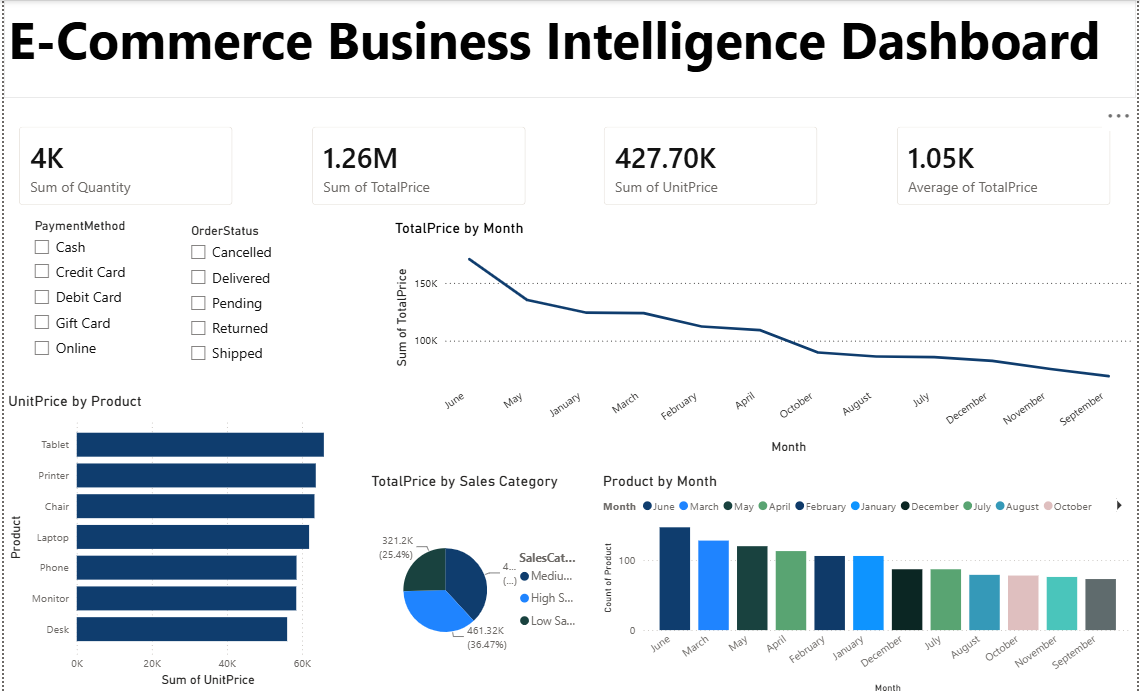

The dashboard page shown, as its layout file describes it:
{"tool":"powerbi","page":{"name":"Page 1","canvas":[1300,800],"ordinal":0},"visuals":[{"type":"cardVisual","fields":{"Data":["Sum(project1 dataset.Quantity)"]},"box":[0,127.8,279,124.4],"z":0},{"type":"cardVisual","fields":{"Data":["Sum(project1 dataset.TotalPrice)"]},"box":[335.6,127.8,279,124.4],"z":1000},{"type":"cardVisual","fields":{"Data":["Sum(project1 dataset. UnitPrice )"]},"box":[671.3,127.8,279,124.4],"z":2000},{"type":"cardVisual","fields":{"Data":["Avg(project1 dataset.TotalPrice)"]},"box":[1006.9,127.8,279,124],"z":3000},{"type":"lineStackedColumnComboChart","title":"Product by Month ","fields":{"Category":["project1 dataset.Month"],"Y":["CountNonNull(project1 dataset.Product)"],"Series":["project1 dataset.Month"]},"box":[682.5,541.3,616.9,258.9],"z":4000},{"type":"lineChart","title":"TotalPrice by Month","fields":{"Category":["project1 dataset.Month"],"Y":["Sum(project1 dataset.TotalPrice)"]},"box":[443.8,252.1,855.6,274],"z":5000},{"type":"clusteredBarChart","title":"UnitPrice  by Product","fields":{"Category":["project1 dataset.Product"],"Y":["Sum(project1 dataset. UnitPrice )"]},"box":[0,450.5,400.1,342.9],"z":6000},{"type":"slicer","fields":{"Values":["project1 dataset.PaymentMethod"]},"box":[21.9,245.4,141.2,184.9],"z":7000},{"type":"slicer","fields":{"Values":["project1 dataset.OrderStatus"]},"box":[201.7,252.1,154.6,178.2],"z":8000},{"type":"pieChart","title":"TotalPrice by Sales Category","fields":{"Category":["project1 dataset.SalesCategory"],"Y":["Sum(project1 dataset.TotalPrice)"]},"box":[416.9,541.3,253.8,252.1],"z":9000},{"type":"textbox","box":[0,0,1299.4,112.6],"z":10000}]}

Visuals, with their boxes in screenshot pixels (x1, y1, x2, y2), scaled from the page's 1300x800 canvas onto the 1140x693 screenshot:
cardVisual - Sum(project1 dataset.Quantity): x1=0, y1=111, x2=245, y2=218
cardVisual - Sum(project1 dataset.TotalPrice): x1=294, y1=111, x2=539, y2=218
cardVisual - Sum(project1 dataset. UnitPrice ): x1=589, y1=111, x2=833, y2=218
cardVisual - Avg(project1 dataset.TotalPrice): x1=883, y1=111, x2=1128, y2=218
"Product by Month " lineStackedColumnComboChart: x1=598, y1=469, x2=1139, y2=692
"TotalPrice by Month" lineChart: x1=389, y1=218, x2=1139, y2=456
"UnitPrice  by Product" clusteredBarChart: x1=0, y1=390, x2=351, y2=687
slicer - project1 dataset.PaymentMethod: x1=19, y1=213, x2=143, y2=373
slicer - project1 dataset.OrderStatus: x1=177, y1=218, x2=312, y2=373
"TotalPrice by Sales Category" pieChart: x1=366, y1=469, x2=588, y2=687
textbox: x1=0, y1=0, x2=1139, y2=98
